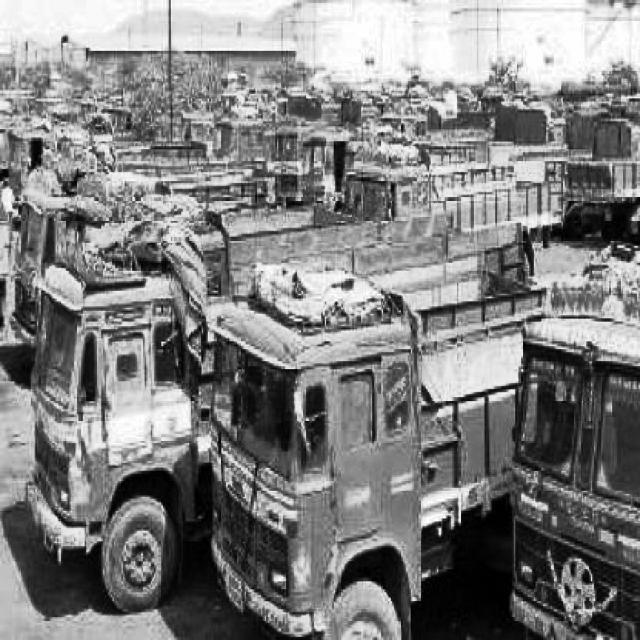HCV: (242, 234, 526, 621), (28, 254, 234, 569), (506, 306, 639, 639), (322, 134, 523, 231), (567, 95, 640, 218), (25, 129, 102, 228), (237, 97, 323, 182), (368, 84, 445, 166)
